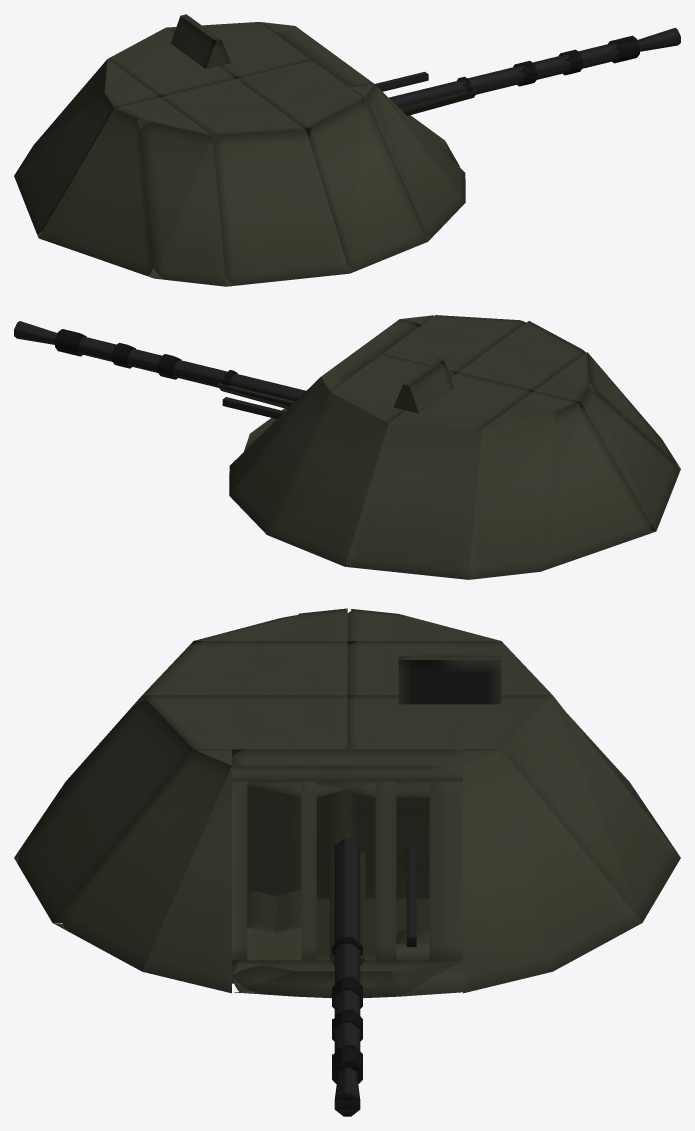
File: btr70turret.obj
3 views of the same model, one above another, from view 1: azimuth 30°, elevation 25°; view 2: azimuth 150°, elevation 25°; view 3: azimuth 270°, elevation 25° (orthographic). The views are drawn at different scales.
Visible parts, largest first — view 1: turretModel0, turretModel4, turretModel3, turretModel5, turretModel7, turretModel1, turretModel2, barrelModel1, turretModel23, turretModel11, barrelModel0, barrelModel19 (+1 smaller); view 2: turretModel5, turretModel1, turretModel2, turretModel0, turretModel6, turretModel4, turretModel3, barrelModel1, turretModel23, turretModel11, barrelModel0, barrelModel19 (+1 smaller); view 3: turretModel2, turretModel3, turretModel6, turretModel7, turretModel4, turretModel11, turretModel1, turretModel12, turretModel24, turretModel23, barrelModel1, turretModel13 (+12 smaller).
Part boxes in pixels (x1=…): turretModel0: x1=39, y1=97, x2=225, y2=286; turretModel4: x1=160, y1=79, x2=349, y2=286; turretModel3: x1=236, y1=60, x2=427, y2=273; turretModel5: x1=14, y1=59, x2=159, y2=237; turretModel7: x1=352, y1=84, x2=465, y2=241; turretModel1: x1=108, y1=27, x2=235, y2=145; turretModel2: x1=158, y1=22, x2=311, y2=96; barrelModel1: x1=389, y1=43, x2=619, y2=105; turretModel23: x1=170, y1=14, x2=230, y2=68; turretModel11: x1=273, y1=26, x2=373, y2=89; barrelModel0: x1=397, y1=52, x2=620, y2=108; barrelModel19: x1=375, y1=72, x2=428, y2=91; turretModel5: x1=468, y1=390, x2=655, y2=579; turretModel1: x1=345, y1=372, x2=531, y2=579; turretModel2: x1=267, y1=353, x2=455, y2=566; turretModel0: x1=535, y1=352, x2=680, y2=531; turretModel6: x1=229, y1=377, x2=341, y2=534; turretModel4: x1=459, y1=321, x2=596, y2=392; turretModel3: x1=383, y1=315, x2=525, y2=374; barrelModel1: x1=78, y1=336, x2=305, y2=398; turretModel23: x1=393, y1=359, x2=453, y2=413; turretModel11: x1=321, y1=319, x2=419, y2=383; barrelModel0: x1=78, y1=345, x2=297, y2=401; barrelModel19: x1=222, y1=397, x2=284, y2=418; turretModel2: x1=347, y1=695, x2=680, y2=922; turretModel3: x1=14, y1=695, x2=347, y2=922; turretModel6: x1=463, y1=749, x2=641, y2=993; turretModel7: x1=53, y1=749, x2=231, y2=993; turretModel4: x1=14, y1=641, x2=347, y2=857; turretModel11: x1=232, y1=749, x2=462, y2=781; turretModel1: x1=347, y1=641, x2=679, y2=855; turretModel12: x1=429, y1=781, x2=462, y2=960; turretModel24: x1=247, y1=784, x2=301, y2=895; turretModel23: x1=398, y1=655, x2=501, y2=704; barrelModel1: x1=334, y1=838, x2=360, y2=1051; turretModel13: x1=375, y1=781, x2=396, y2=960.
Size of the model in its own units: 42 by 8.6 by 26.
